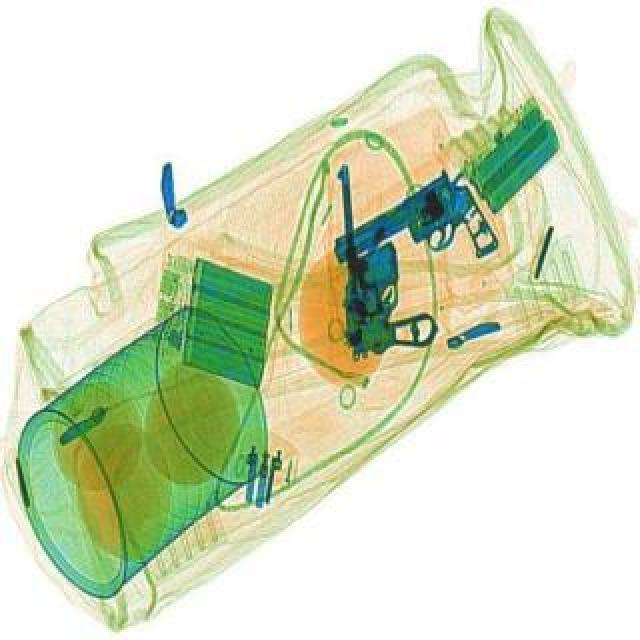gun: (322, 166, 508, 314), (324, 156, 442, 358)
